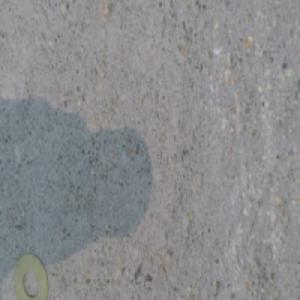Washer: (13, 254, 49, 299)
